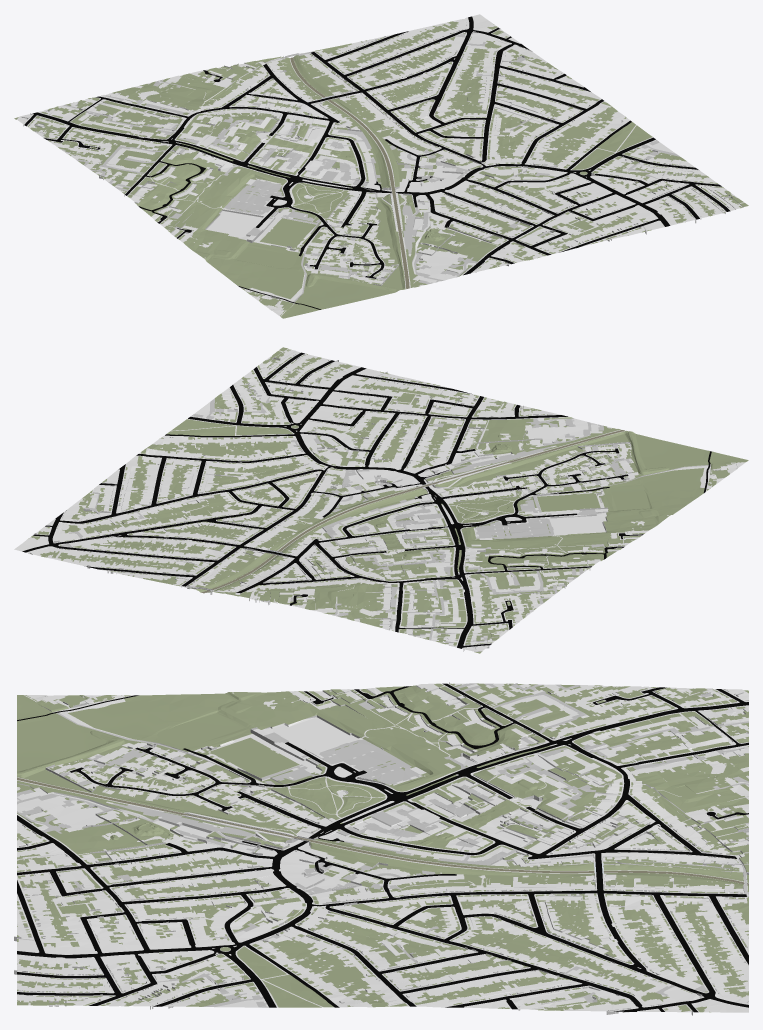
Rendered from TQ3375_Terrain_LOD_1_draco.glb.
3 renders of one model, top to bottom at view 1: azimuth 30°, elevation 25°; view 2: azimuth 150°, elevation 25°; view 3: azimuth 270°, elevation 25°, orthographic. The views are drawn at different scales.
Parts seen in each view (by area): view 1: TQ3375_Terrain; view 2: TQ3375_Terrain; view 3: TQ3375_Terrain.
Boxes of the visible parts, bbox=[...] form: TQ3375_Terrain: bbox=[14, 14, 748, 318]; TQ3375_Terrain: bbox=[14, 347, 748, 653]; TQ3375_Terrain: bbox=[14, 682, 748, 1015].
Size of the model in its own units: 1000 by 37.32 by 1004.
Materials: 1 (1 with a texture image).
